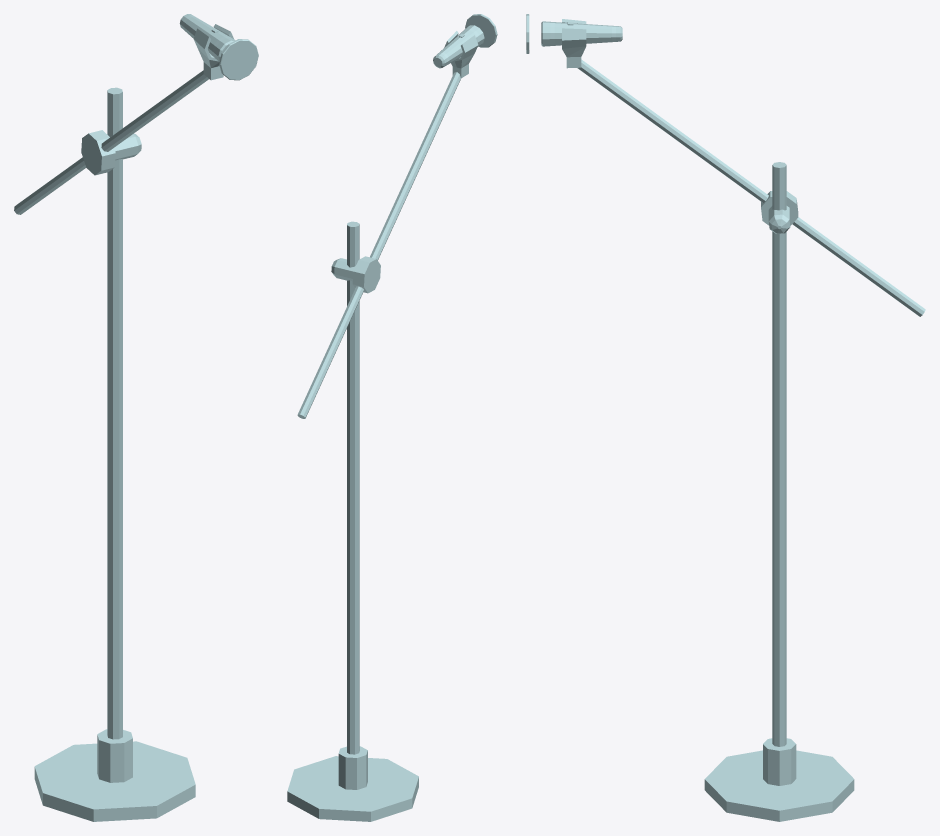
Rendered from resto_ni_teo_8.obj.
The picture shows the model from 3 angles, left to right: view 1: azimuth 30°, elevation 25°; view 2: azimuth 150°, elevation 25°; view 3: azimuth 270°, elevation 25°; orthographic projection. The views are drawn at different scales.
Size of the model in its own units: 0.2921 by 1.65 by 0.7795.
